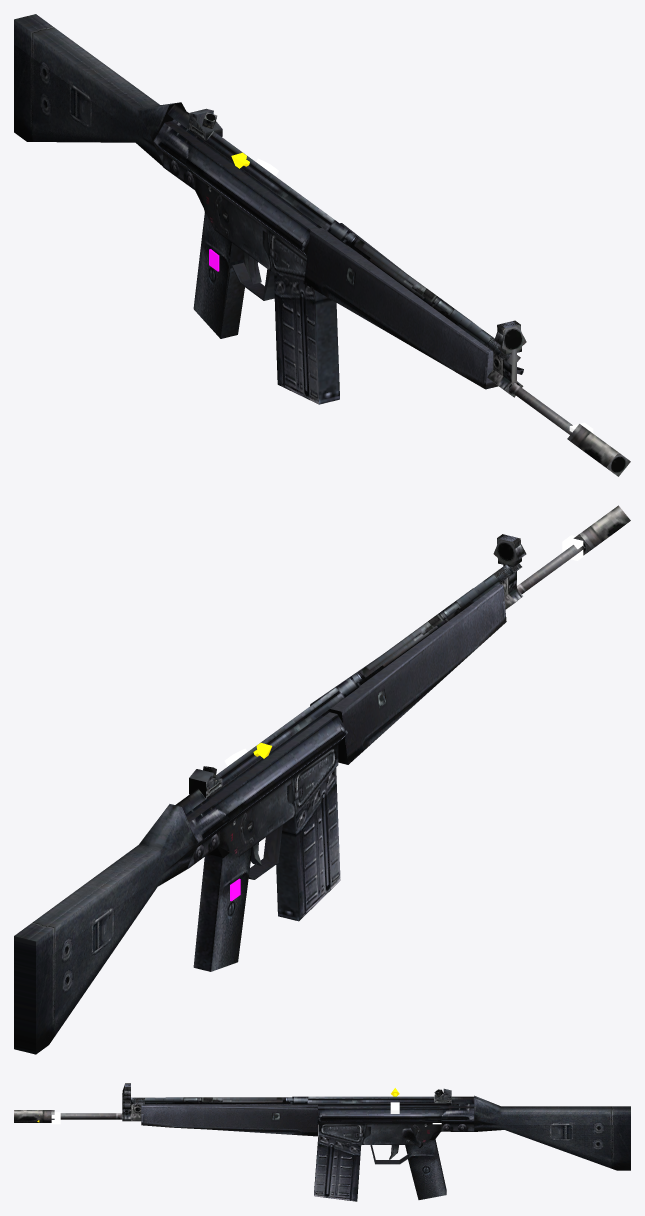
3 renders of one model, top to bottom at view 1: azimuth 30°, elevation 25°; view 2: azimuth 150°, elevation 25°; view 3: azimuth 270°, elevation 25°, orthographic. The views are drawn at different scales.
Visible parts, largest first — view 1: 01 Mesh0, 01 Mesh0.001, 01 Mesh0.002; view 2: 01 Mesh0, 01 Mesh0.001, 01 Mesh0.002; view 3: 01 Mesh0, 01 Mesh0.001, 01 Mesh0.002.
Part boxes in pixels (x1=…): 01 Mesh0: x1=14, y1=16, x2=630, y2=476; 01 Mesh0.001: x1=14, y1=14, x2=613, y2=469; 01 Mesh0.002: x1=14, y1=29, x2=521, y2=404; 01 Mesh0: x1=21, y1=505, x2=630, y2=1054; 01 Mesh0.001: x1=14, y1=508, x2=628, y2=1054; 01 Mesh0.002: x1=36, y1=534, x2=521, y2=1053; 01 Mesh0: x1=14, y1=1084, x2=630, y2=1201; 01 Mesh0.001: x1=14, y1=1090, x2=630, y2=1190; 01 Mesh0.002: x1=122, y1=1083, x2=630, y2=1200.
Size of the model in its own units: 0.0451 by 0.2071 by 1.02.
Materials: 4 (1 with a texture image).
